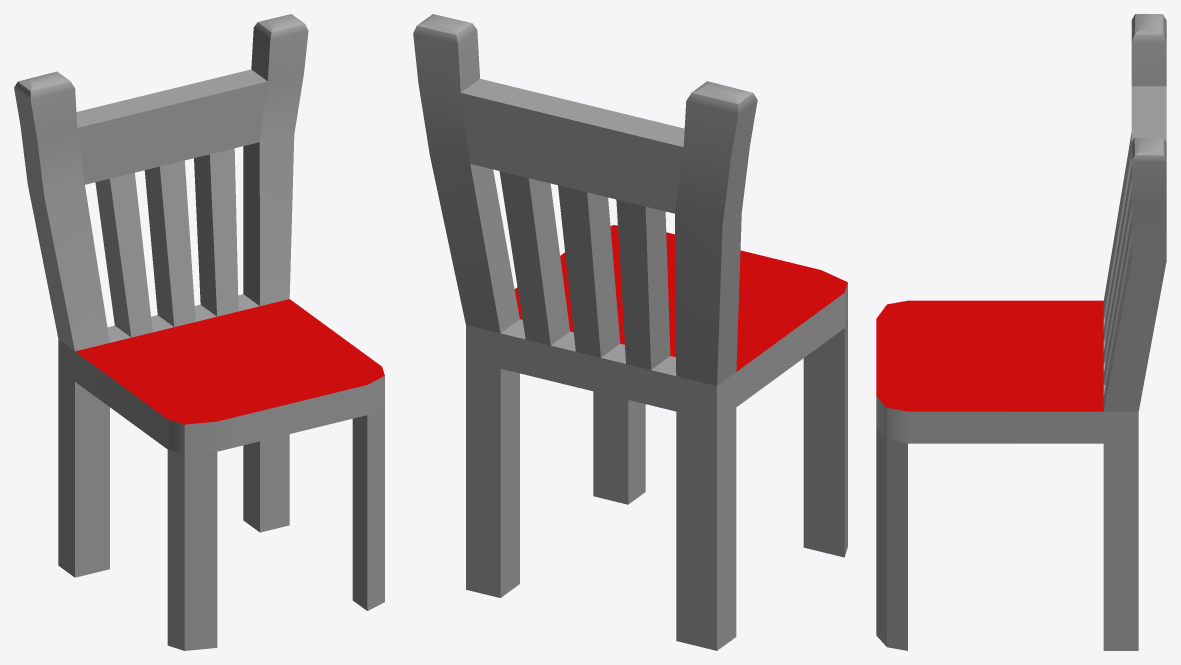
The model's file is korsss.fbx.
The picture shows the model from 3 angles, left to right: view 1: azimuth 30°, elevation 25°; view 2: azimuth 150°, elevation 25°; view 3: azimuth 270°, elevation 25°; orthographic projection. The views are drawn at different scales.
Parts seen in each view (by area): view 1: polySurface3; view 2: polySurface3; view 3: polySurface3.
Boxes of the visible parts, x1,y1,x2,y2 form: polySurface3: (14, 14, 384, 650); polySurface3: (413, 14, 847, 650); polySurface3: (876, 14, 1166, 650).
Bounding box in the file's own units: 4.54 × 7.59 × 3.88.
